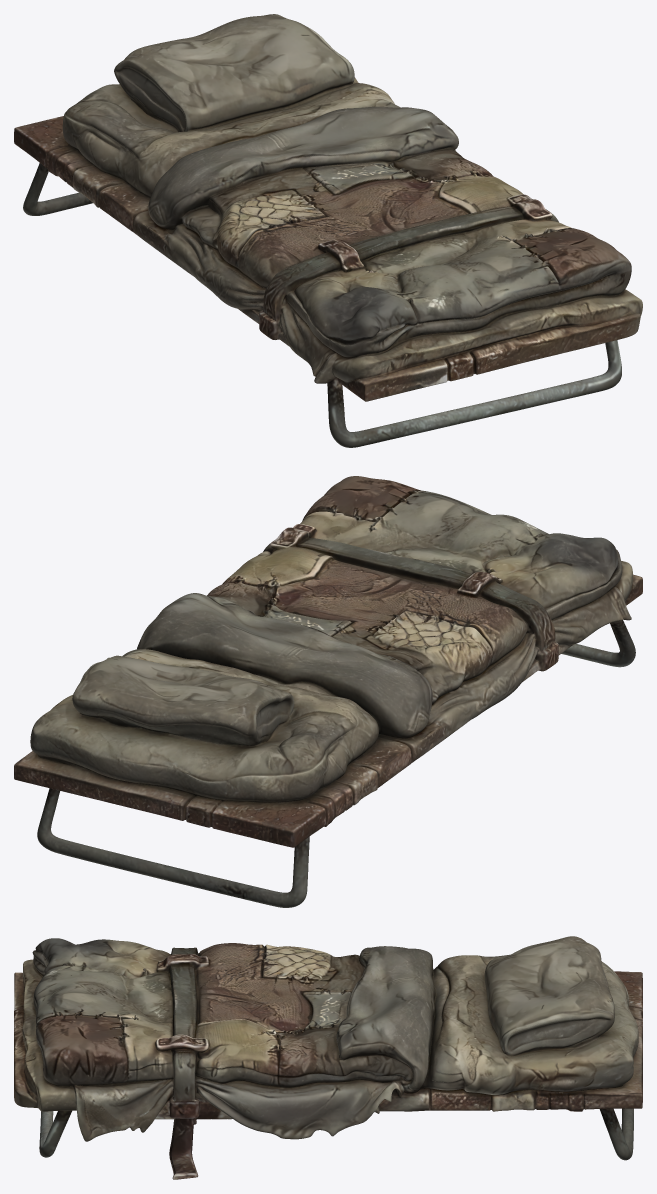
Rendered from prop_cot_bed.glb.
The picture shows the model from 3 angles, top to bottom: view 1: azimuth 30°, elevation 25°; view 2: azimuth 150°, elevation 25°; view 3: azimuth 270°, elevation 25°; orthographic projection. The views are drawn at different scales.
Parts seen in each view (by area): view 1: model; view 2: model; view 3: model.
Part boxes in pixels (<box>): model: <box>14,14,642,447</box>; model: <box>14,476,642,907</box>; model: <box>14,936,642,1179</box>.
Bounding box in the file's own units: 1.05 × 0.4969 × 1.9.
Materials: 1 (1 with a texture image).
